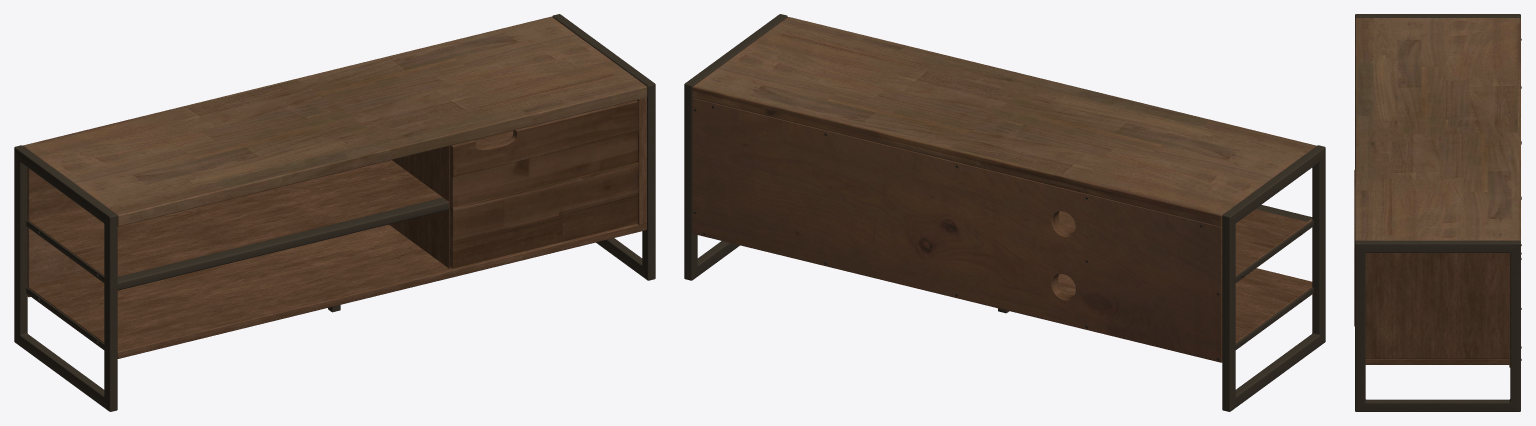
The model's file is B07HSG5DGP.glb.
3 renders of one model, left to right at view 1: azimuth 30°, elevation 25°; view 2: azimuth 150°, elevation 25°; view 3: azimuth 270°, elevation 25°, orthographic. The views are drawn at different scales.
Parts seen in each view (by area): view 1: RootNode; view 2: RootNode; view 3: RootNode.
Boxes of the visible parts, box(x1,y1,x2,y2) form: RootNode: box(14, 14, 655, 411); RootNode: box(684, 14, 1325, 411); RootNode: box(1354, 14, 1521, 411).
Bounding box in the file's own units: 1.48 × 0.5065 × 0.4543.
1 material, 1 textured.
